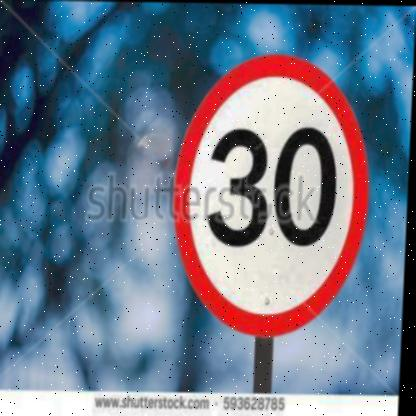Speed Limit -30-: (168, 45, 381, 346)
